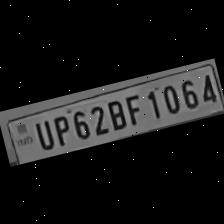0: (156, 80, 182, 116)
1: (139, 85, 164, 122)
2: (84, 100, 110, 138)
4: (193, 69, 219, 106)
6: (66, 106, 92, 142), (174, 76, 198, 112)
B: (102, 96, 127, 132)
F: (120, 91, 146, 127)
P: (48, 112, 72, 148)
U: (29, 116, 56, 153)
